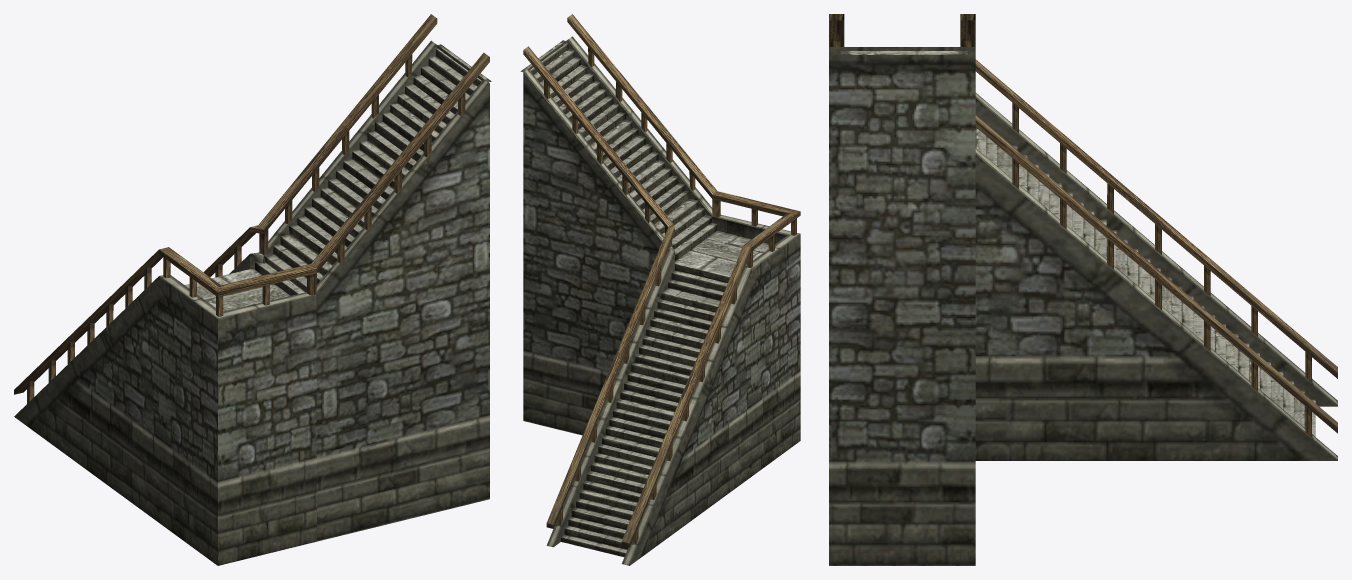
File: general_obj_watchtower02-01.fbx
The picture shows the model from 3 angles, left to right: view 1: azimuth 30°, elevation 25°; view 2: azimuth 150°, elevation 25°; view 3: azimuth 270°, elevation 25°; orthographic projection. The views are drawn at different scales.
Parts seen in each view (by area): view 1: general_obj_watchtower02; view 2: general_obj_watchtower02; view 3: general_obj_watchtower02.
Boxes of the visible parts, bbox=[...] form: general_obj_watchtower02: bbox=[14, 14, 491, 565]; general_obj_watchtower02: bbox=[520, 14, 800, 565]; general_obj_watchtower02: bbox=[829, 14, 1337, 565].
Bounding box in the file's own units: 7.99 × 12.12 × 10.12.
